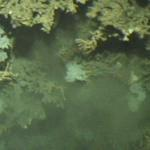alive: (1, 5, 146, 147)
